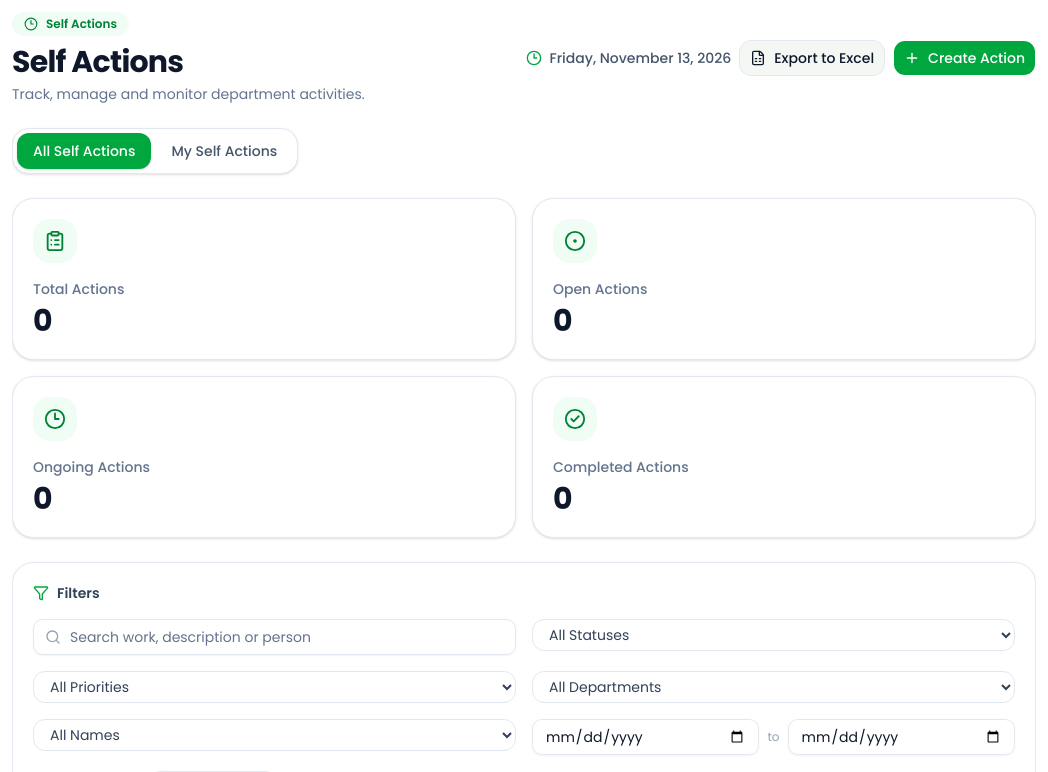
Test: Self Actions export › says so, kindly, when no Self Actions match the filters
Click the button "Export to Excel" at point(812, 58), box [739,40,885,76]
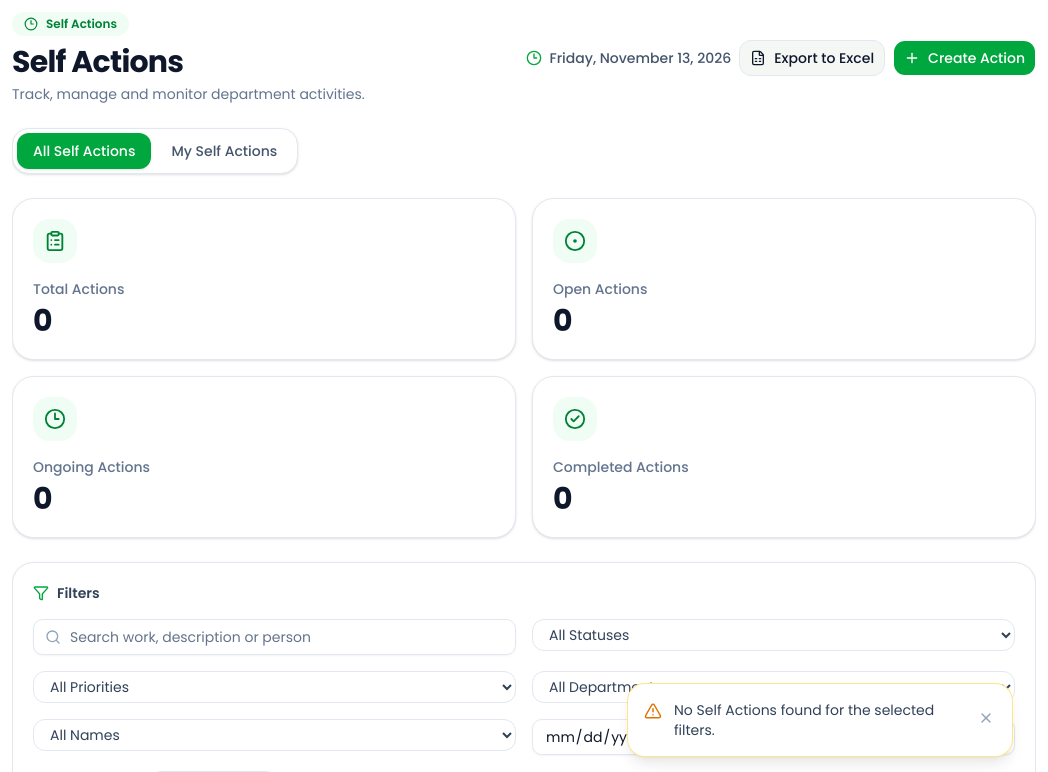
Check: the text "No Self Actions found for the selected filters." is shown, box [674,700,964,740]
